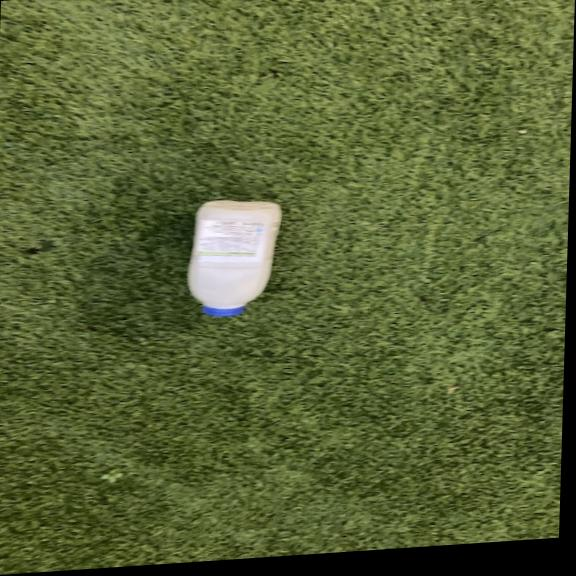Plastik: (182, 188, 285, 320)
